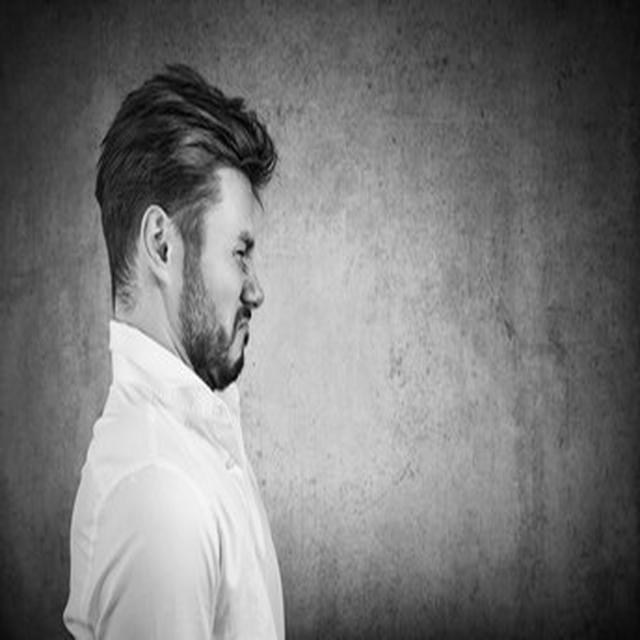Disgust: (176, 170, 267, 391)
